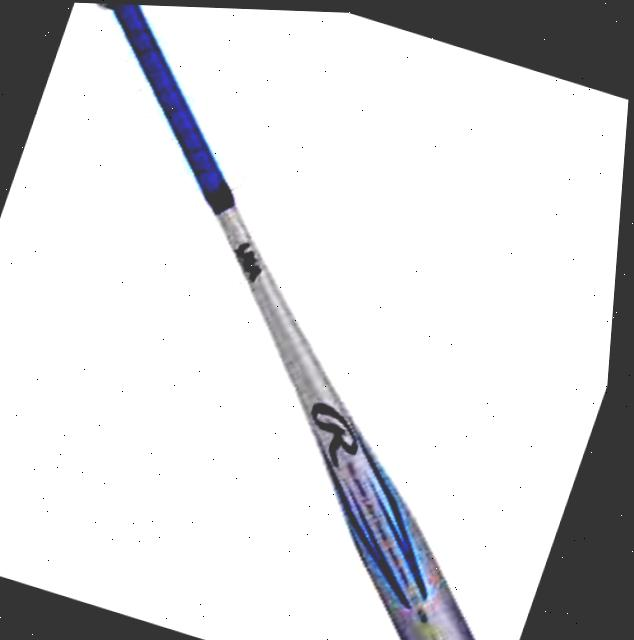baseball bat: (90, 3, 494, 640)
